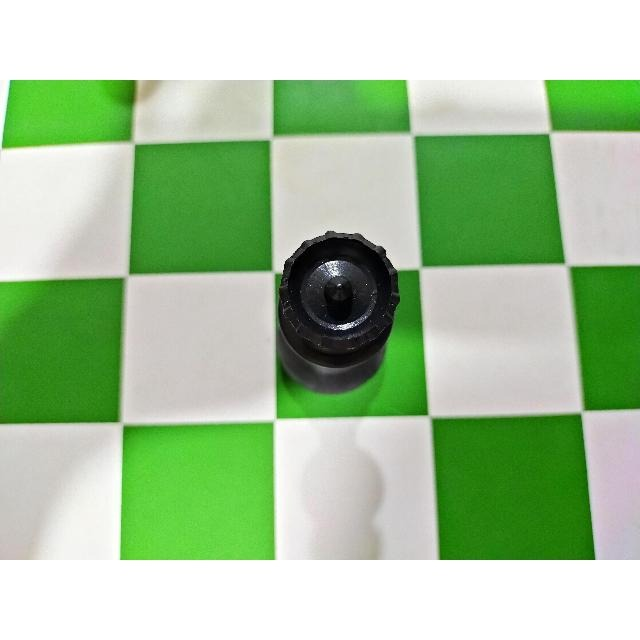black-queen: (275, 222, 405, 400)
